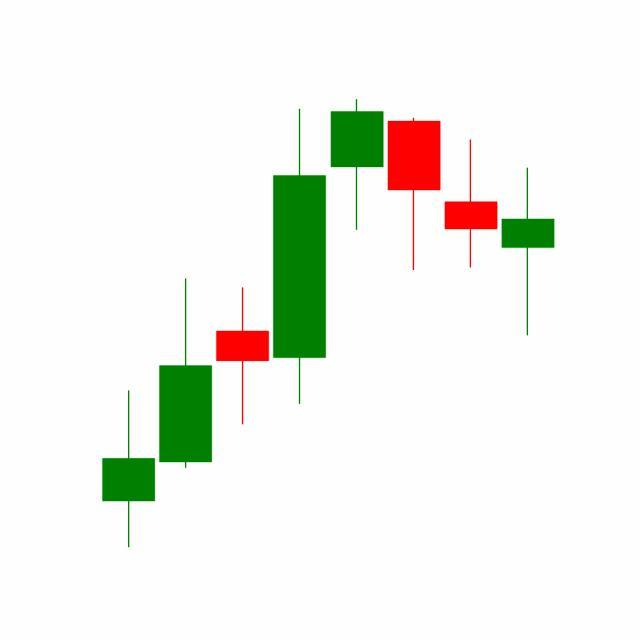Hikkake Pattern: (270, 99, 555, 409)
